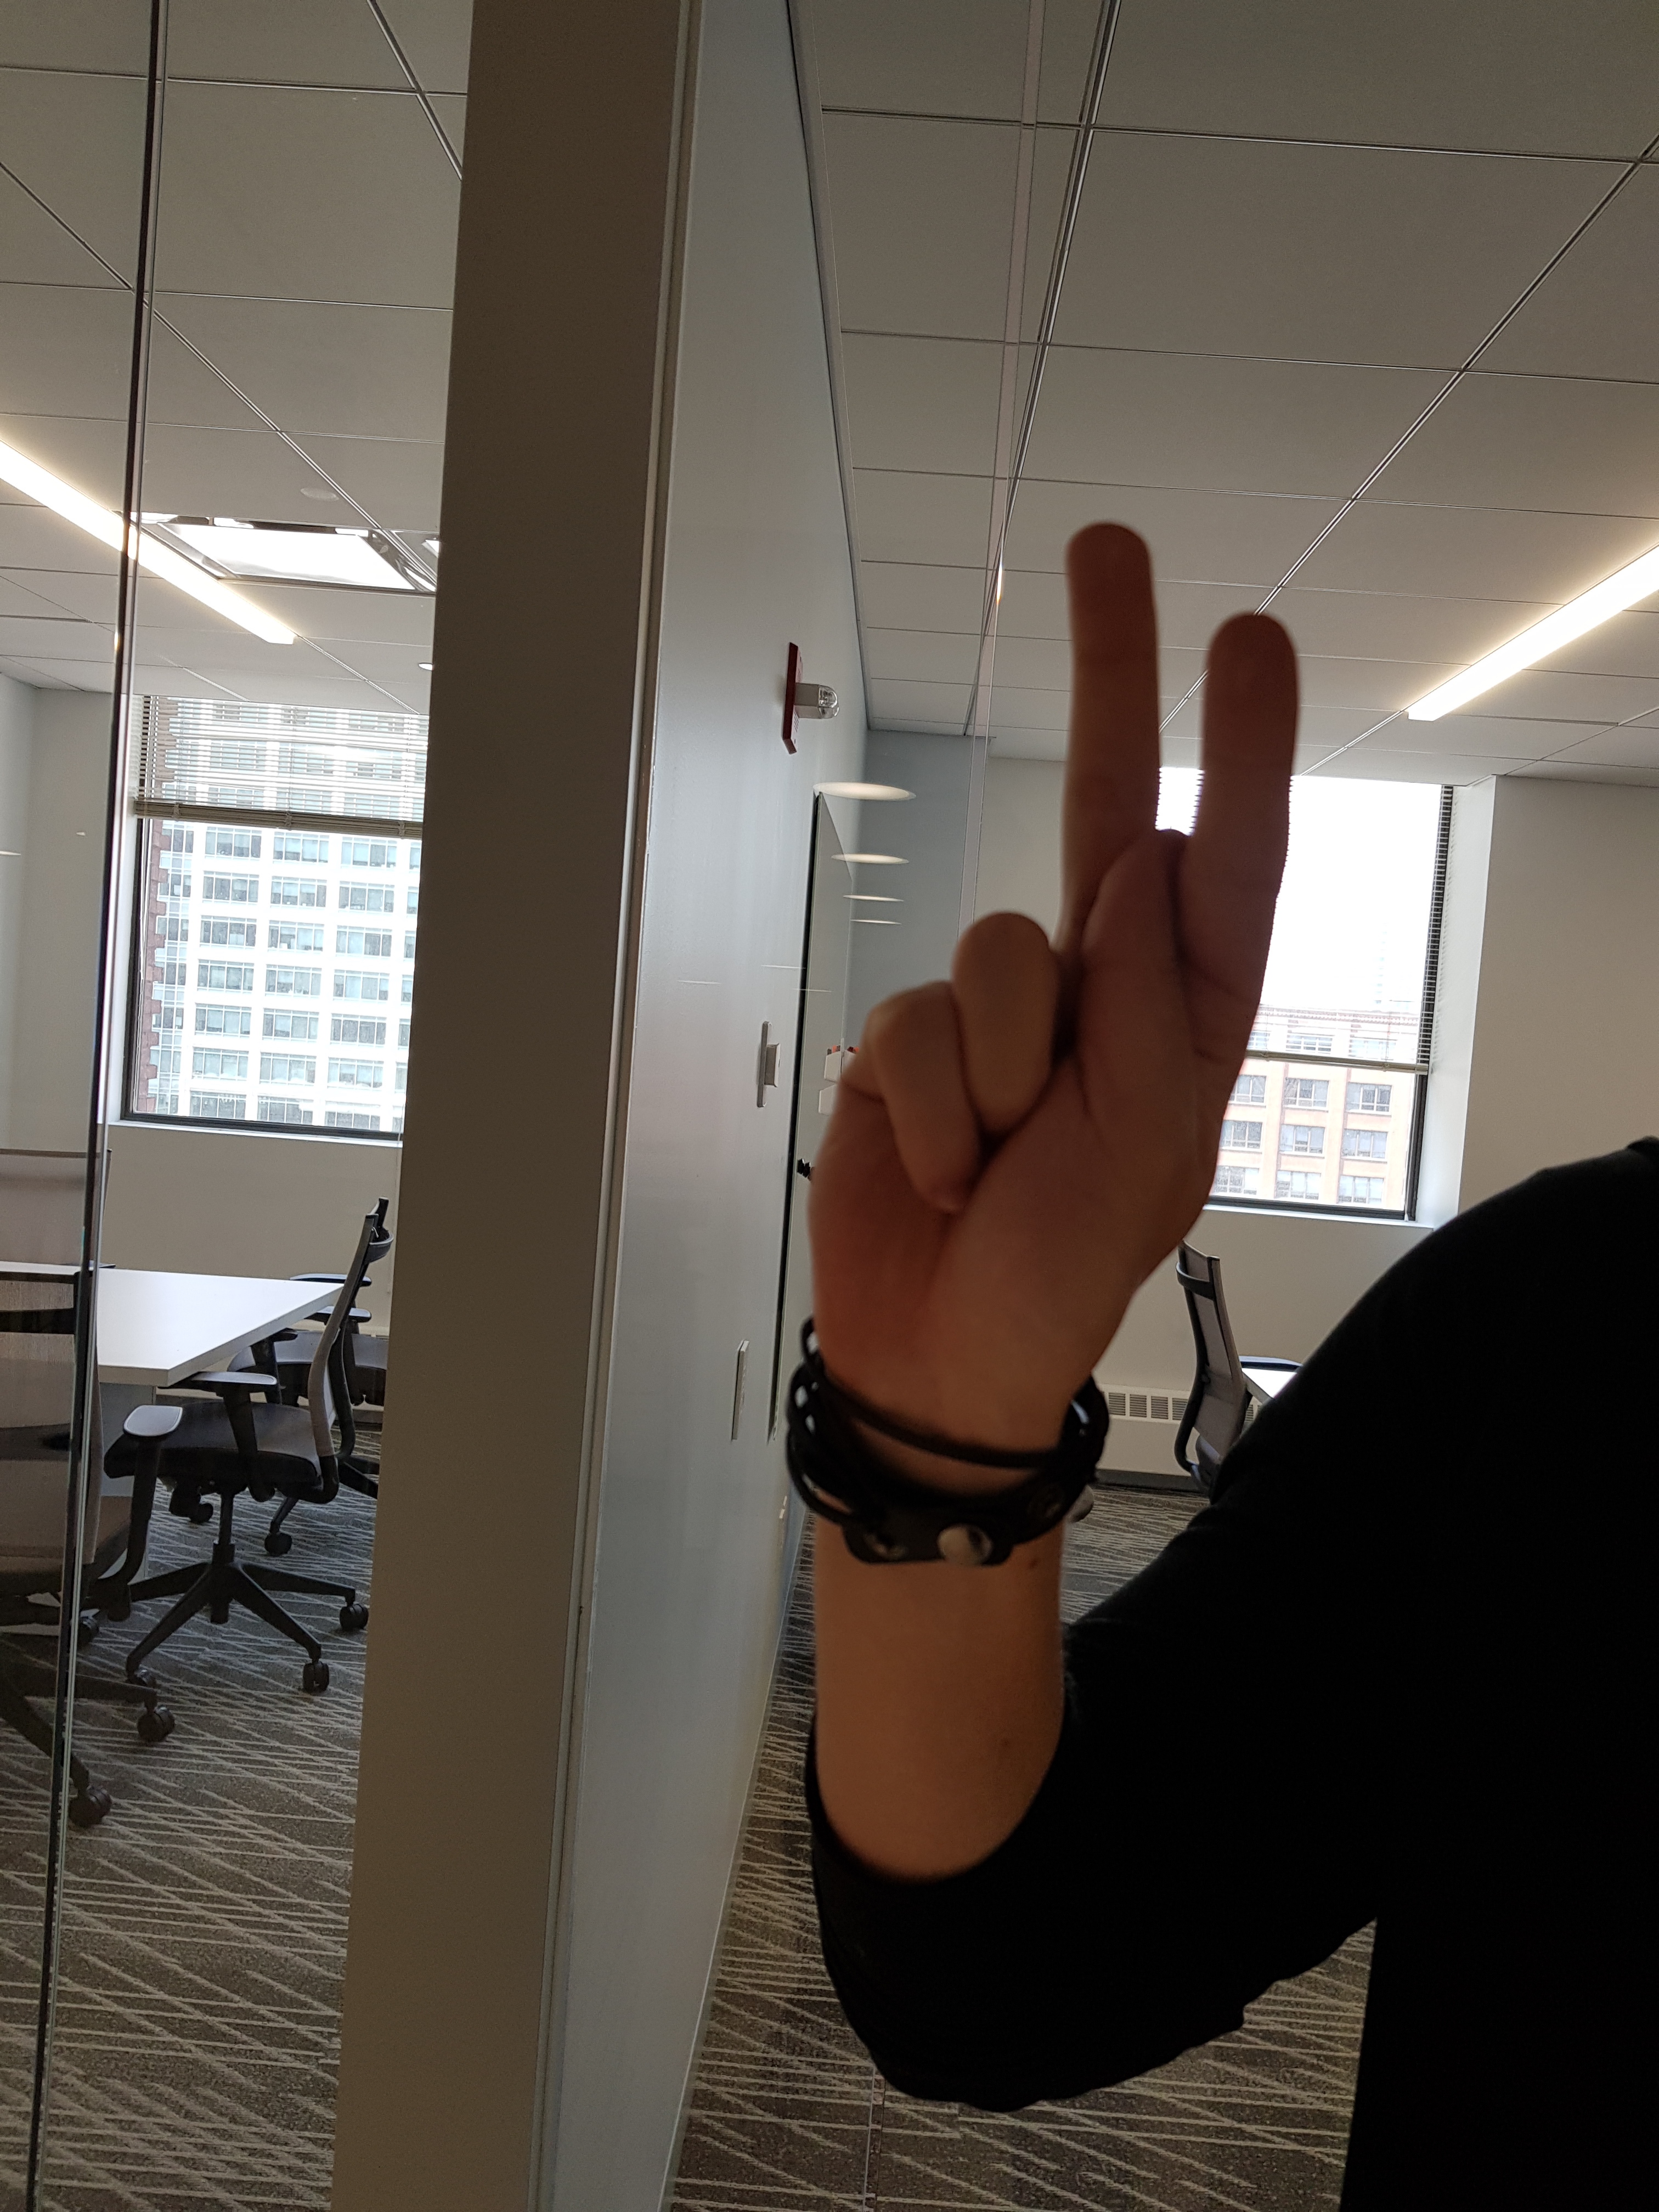k: (767, 479, 1316, 1468)
